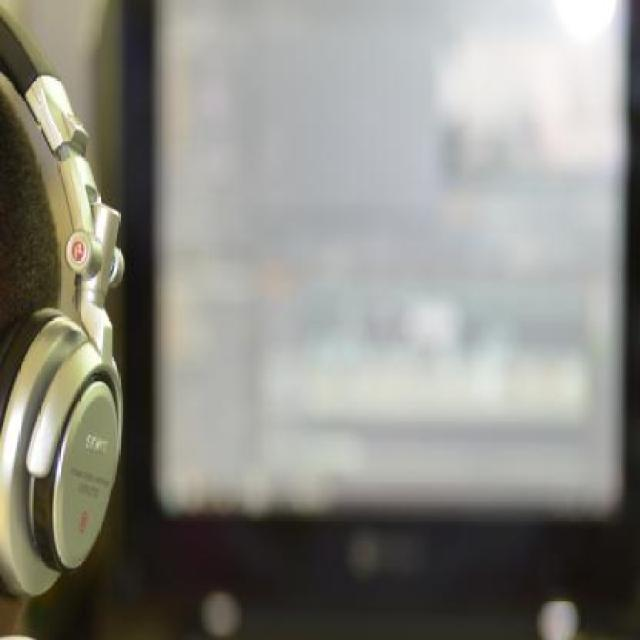earphone: (0, 8, 140, 622)
